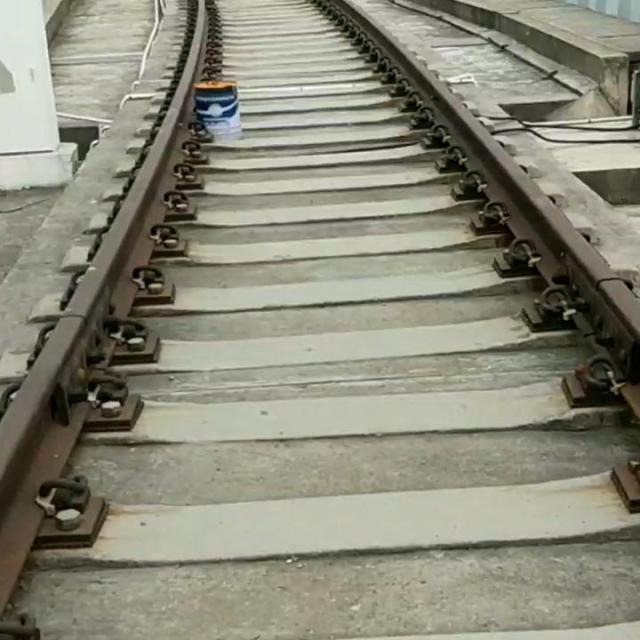rail: (1, 1, 206, 615), (319, 1, 640, 384)
